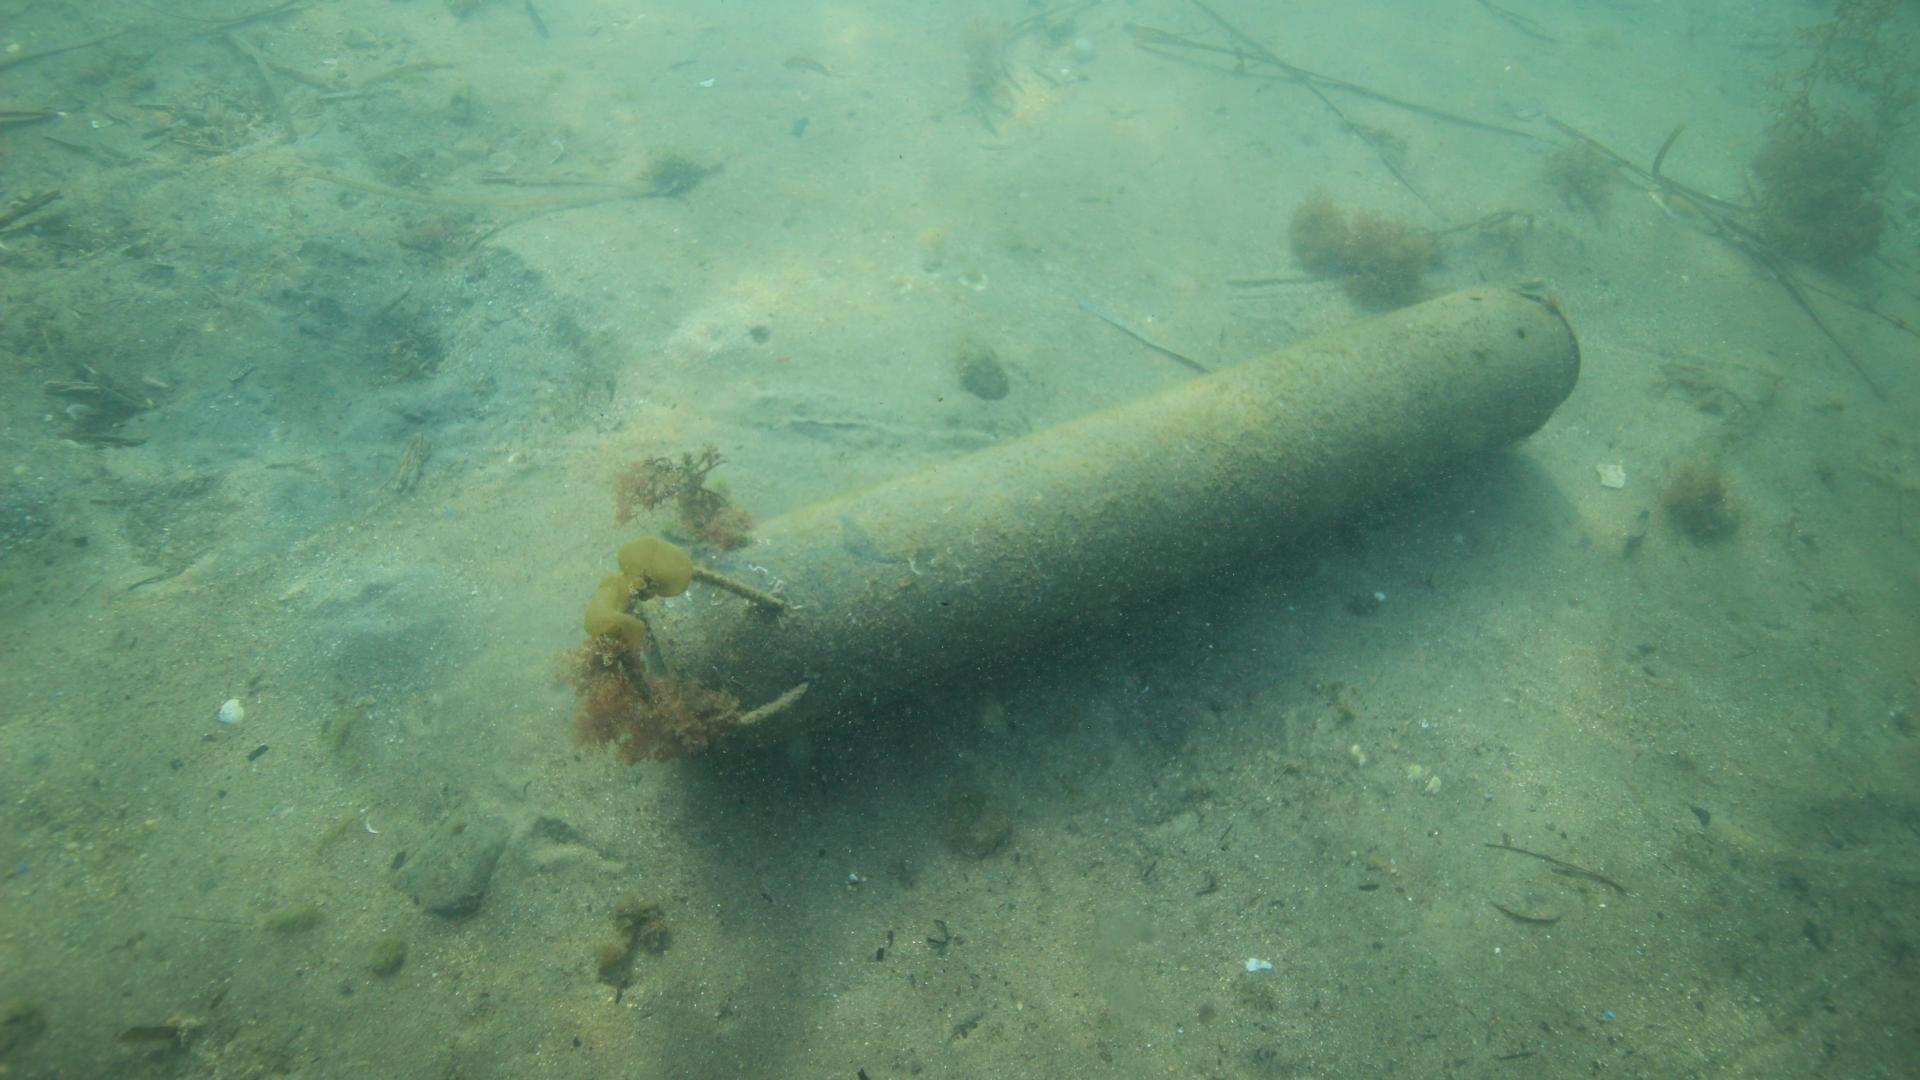eel fish trap: (622, 286, 1588, 752)
rope: (609, 567, 815, 735)
